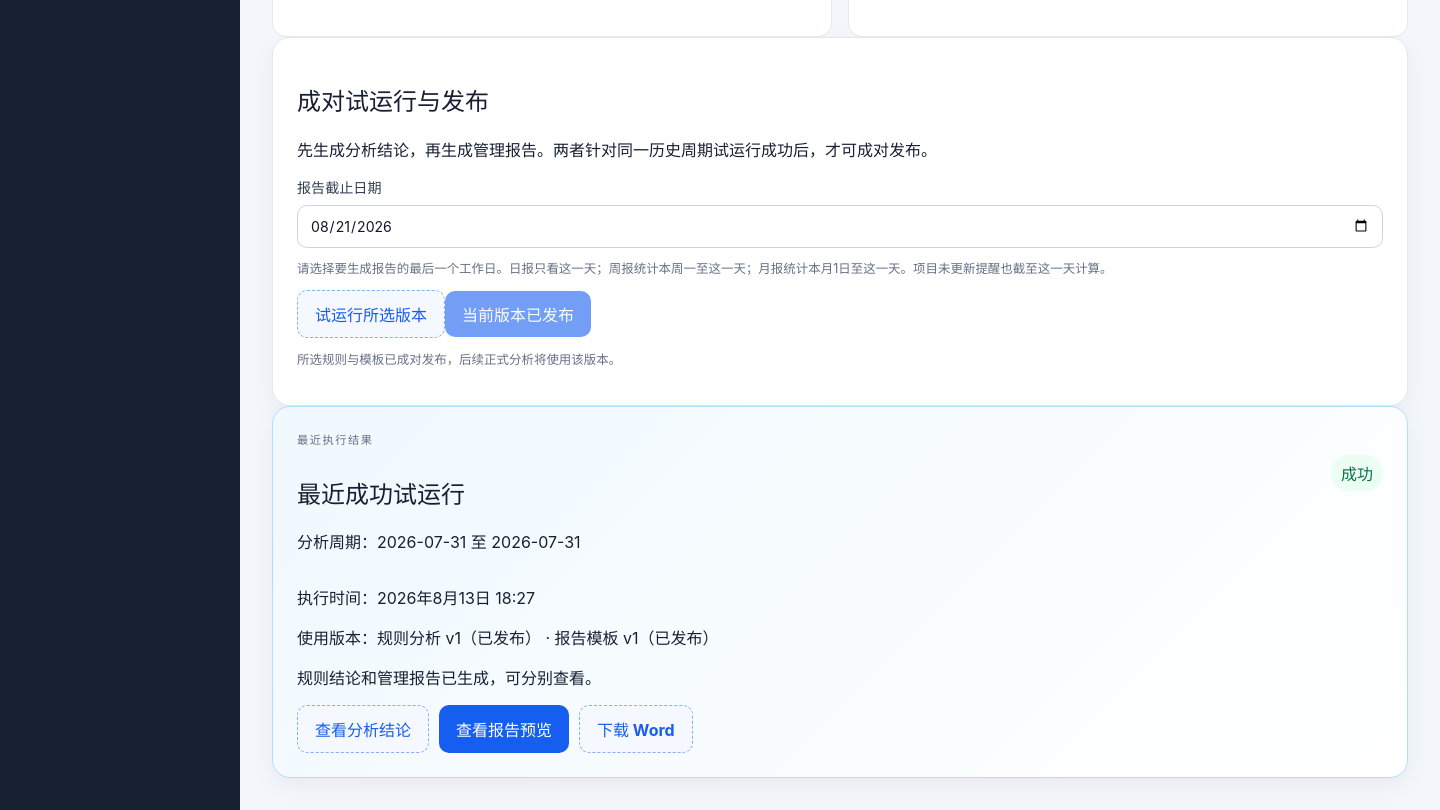
Test: AdminSkillsView › shows the execution time and versions for the latest successful trial
The image size is (1440, 810).
(page scrolled)
Expected: the button with test id "download-docx" is shown, [579, 705, 693, 753]
What coordinates should you click on to do the following:
click the button with test id "view-analysis-draft"
I would click on:
 (363, 729)
Its box is [297, 705, 429, 753].
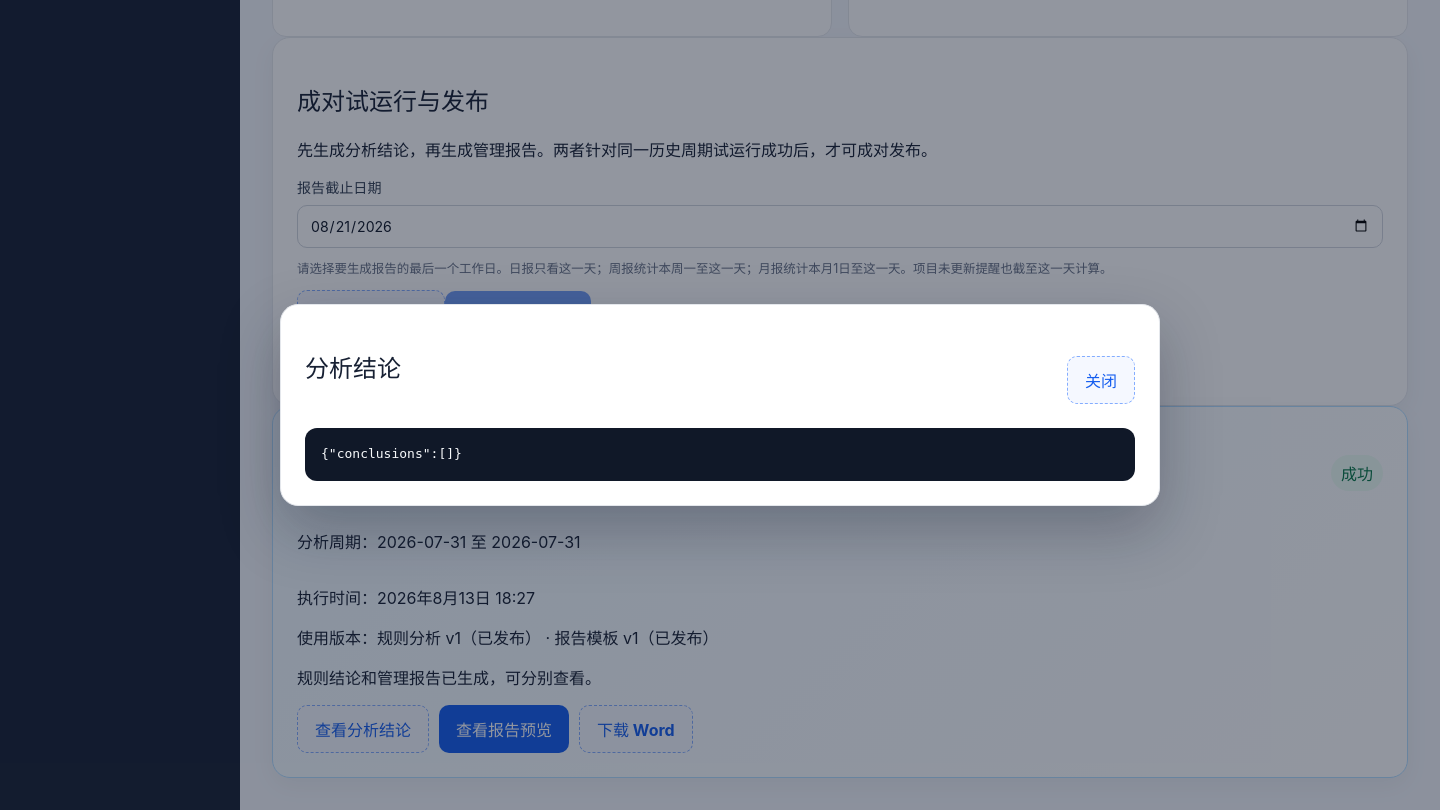
Expected: the dialog is shown, [280, 304, 1160, 506]
